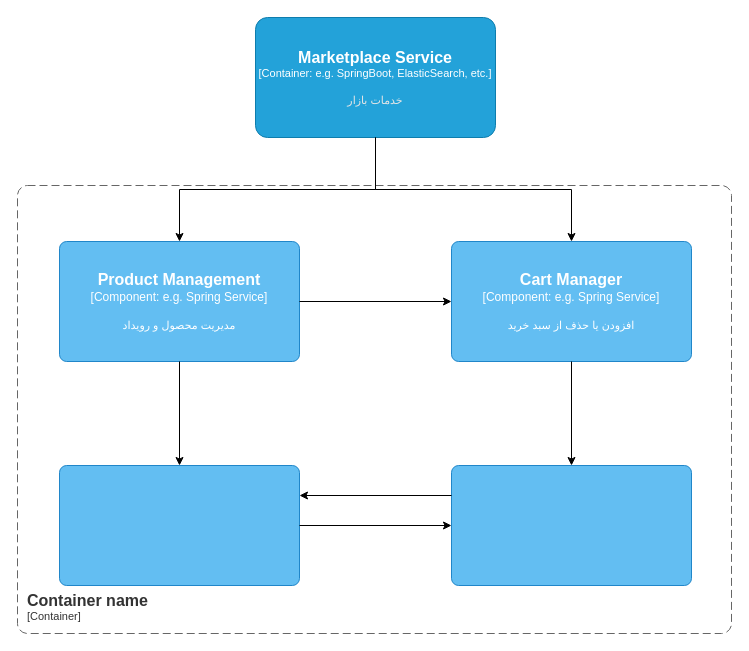
Image size: 749x651. Some labels were removed from this diagram. Here are the shapes that lost their labels. From the top down, the centre of each, then its label:
At point (179, 525): "Inventory Manager [Component: e.g. Spring Service] مدیریت موجودی".
At point (571, 525): "Order Handler [Component: e.g. Spring Service] مدیریت کننده سفارش".
